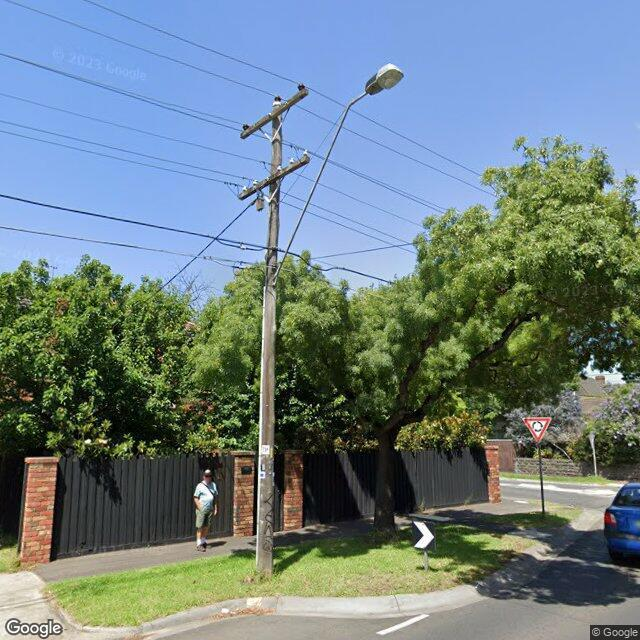HV-transmission: (242, 83, 304, 130)
crossarm: (240, 88, 308, 139), (238, 156, 310, 201)
streetlight: (272, 62, 404, 286)
timber-pole: (256, 101, 282, 578)
